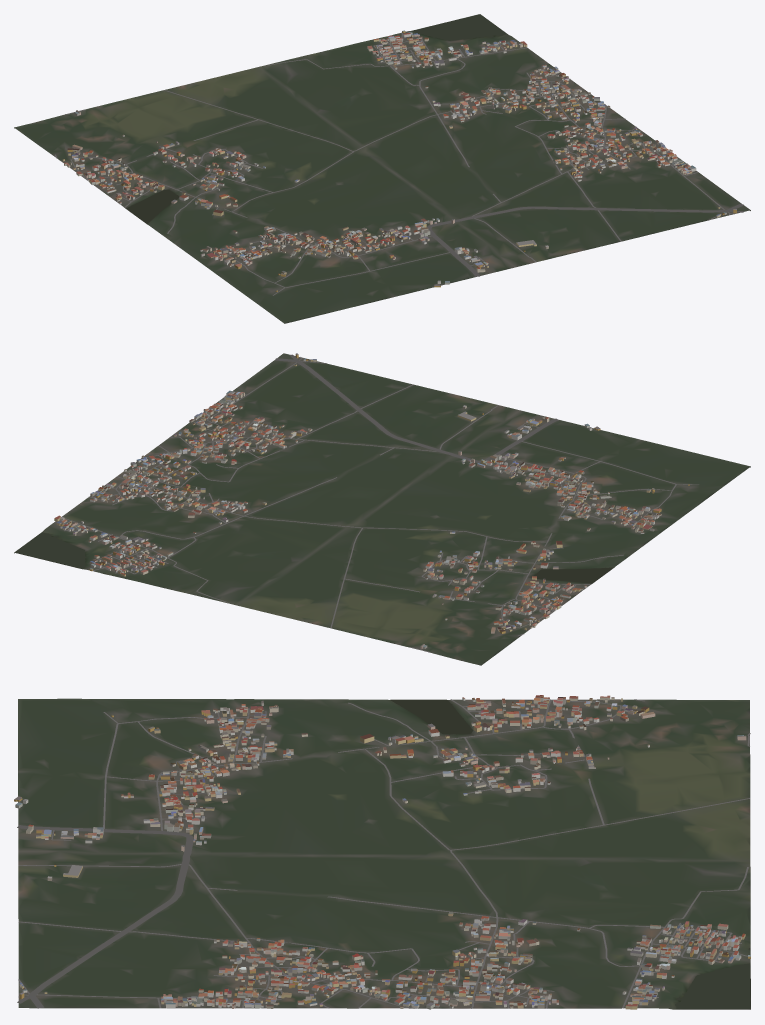
3 renders of one model, top to bottom at view 1: azimuth 30°, elevation 25°; view 2: azimuth 150°, elevation 25°; view 3: azimuth 270°, elevation 25°, orthographic. The views are drawn at different scales.
Parts seen in each view (by area): view 1: ground, buildings, roads, water; view 2: ground, buildings, roads, water; view 3: ground, buildings, roads, water.
Boxes of the visible parts, x1=… form: ground: x1=14, y1=14, x2=750, y2=323; buildings: x1=62, y1=30, x2=736, y2=291; roads: x1=55, y1=32, x2=743, y2=295; water: x1=126, y1=14, x2=506, y2=223; ground: x1=14, y1=353, x2=750, y2=665; buildings: x1=54, y1=353, x2=689, y2=648; roads: x1=61, y1=354, x2=698, y2=652; water: x1=15, y1=532, x2=612, y2=583; ground: x1=18, y1=698, x2=750, y2=1009; buildings: x1=14, y1=695, x2=750, y2=1009; roads: x1=17, y1=699, x2=750, y2=1008; water: x1=390, y1=699, x2=750, y2=1008.
Bounding box in the file's own units: 1409 × 19.39 × 1411.
